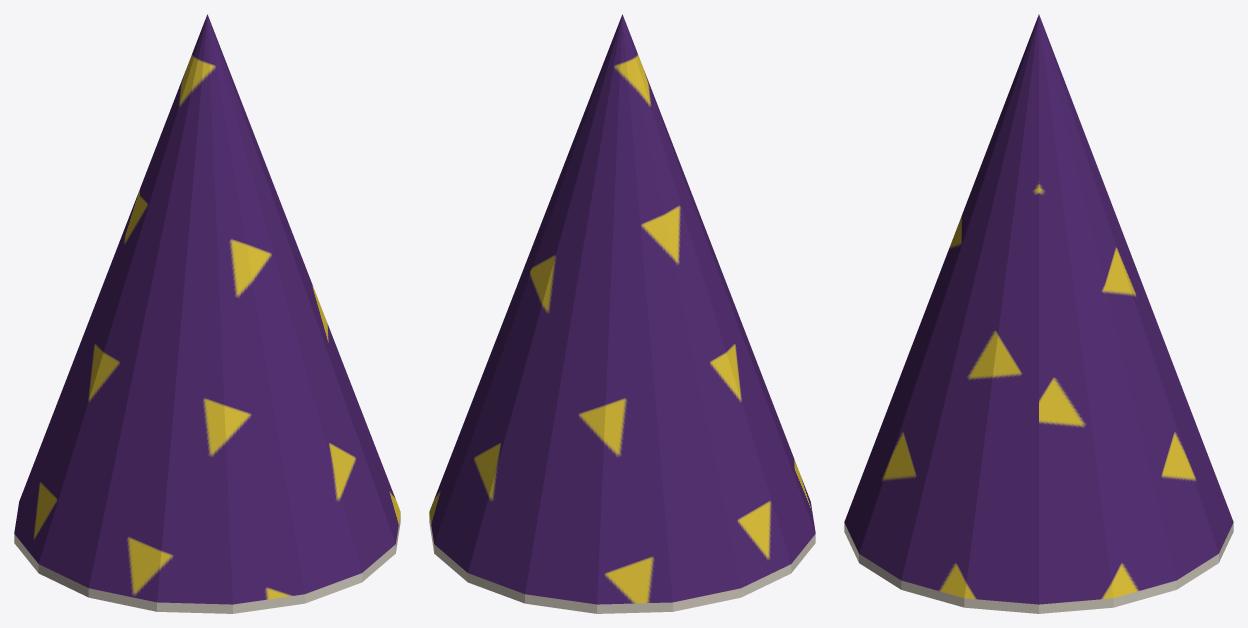
The model's file is party_hat_shapes.glb.
3 views of the same model, side by side, from view 1: azimuth 30°, elevation 25°; view 2: azimuth 150°, elevation 25°; view 3: azimuth 270°, elevation 25° (orthographic).
Visible parts, largest first — view 1: party_hat_shapes; view 2: party_hat_shapes; view 3: party_hat_shapes.
Part boxes in pixels (bbox=[...]): party_hat_shapes: bbox=[14, 14, 400, 613]; party_hat_shapes: bbox=[429, 14, 815, 613]; party_hat_shapes: bbox=[844, 14, 1233, 613].
Bounding box in the file's own units: 0.15 × 0.22 × 0.15.
Materials: 2 (2 with a texture image).
